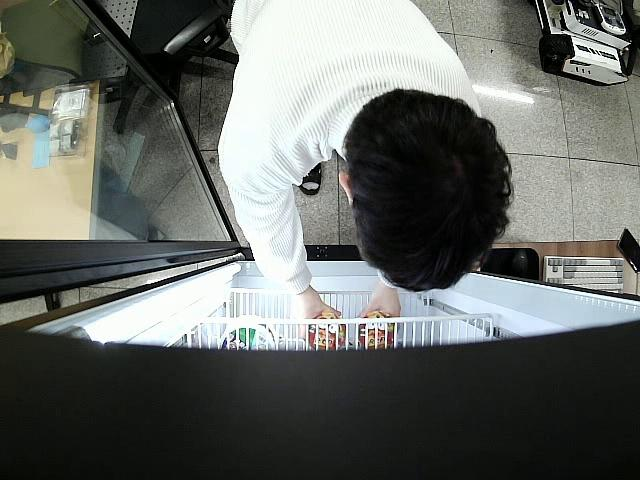00_hand: (293, 295, 345, 339), (354, 291, 402, 334)
06_nuguri_S: (304, 312, 346, 351), (359, 312, 398, 347)
